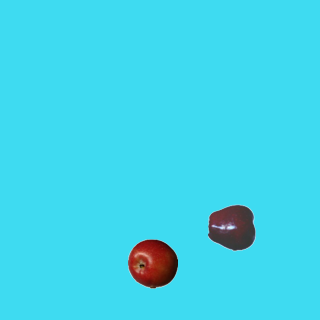Apple Braeburn: (127, 238, 177, 288)
Apple Red Delicious: (207, 202, 257, 252)
